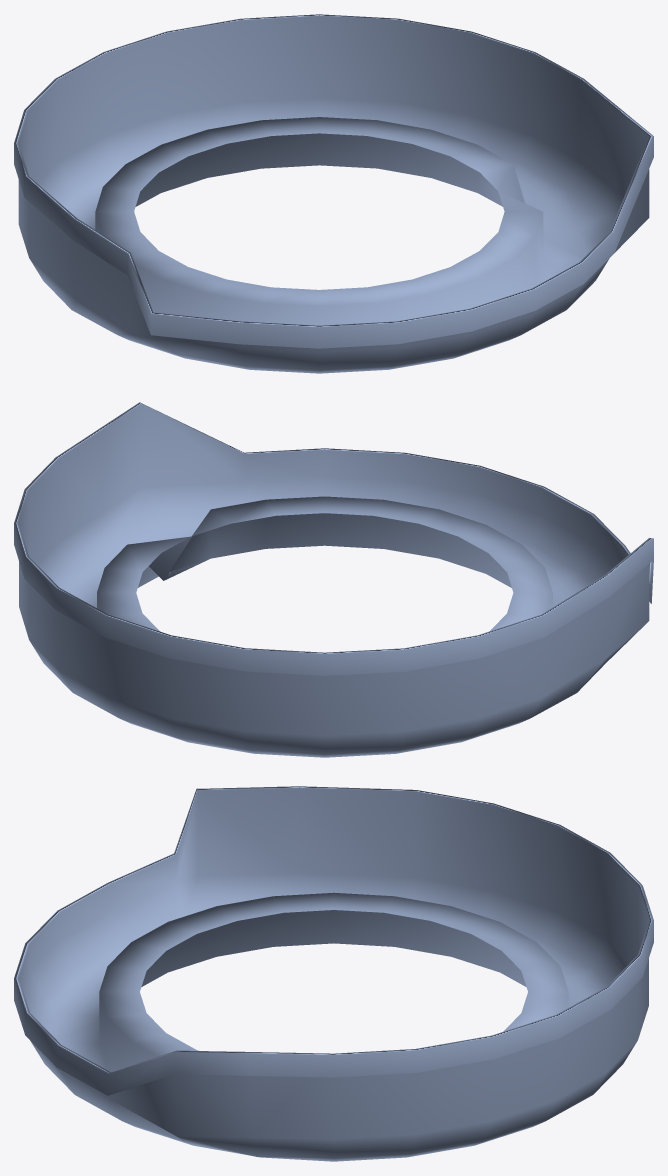
File: HeaterBase_cover.fbx
3 views of the same model, one above another, from view 1: azimuth 30°, elevation 25°; view 2: azimuth 150°, elevation 25°; view 3: azimuth 270°, elevation 25° (orthographic). The views are drawn at different scales.
Parts seen in each view (by area): view 1: iNTERNALblue; view 2: iNTERNALblue; view 3: iNTERNALblue.
Boxes of the visible parts, x1,y1,x2,y2 form: iNTERNALblue: (14,14,653,373); iNTERNALblue: (14,402,653,757); iNTERNALblue: (14,786,653,1161).
Bounding box in the file's own units: 13.21 × 2.96 × 13.26.
